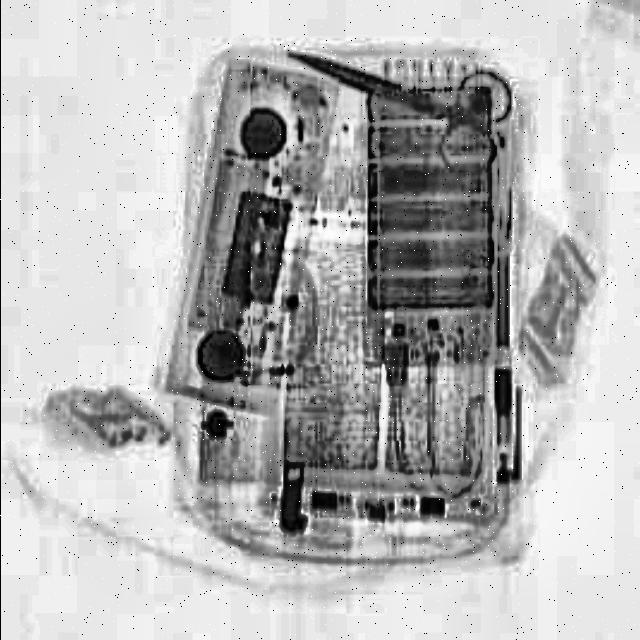Scissors: (268, 0, 514, 182)
